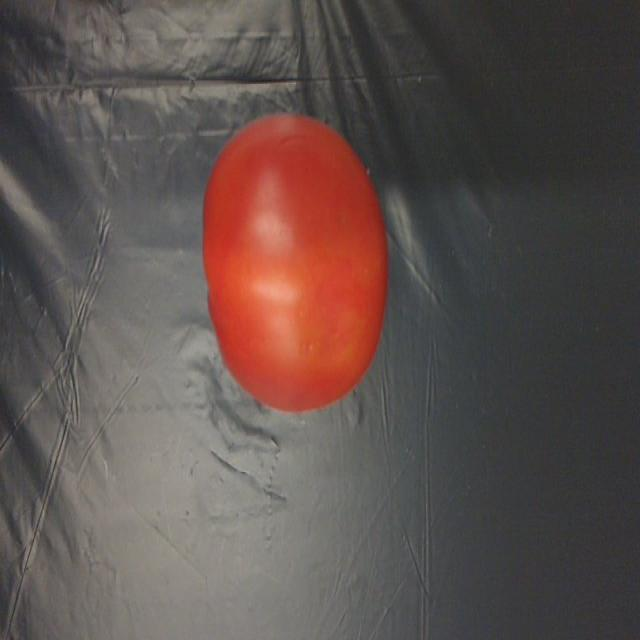kirmizi: (204, 120, 400, 406)
